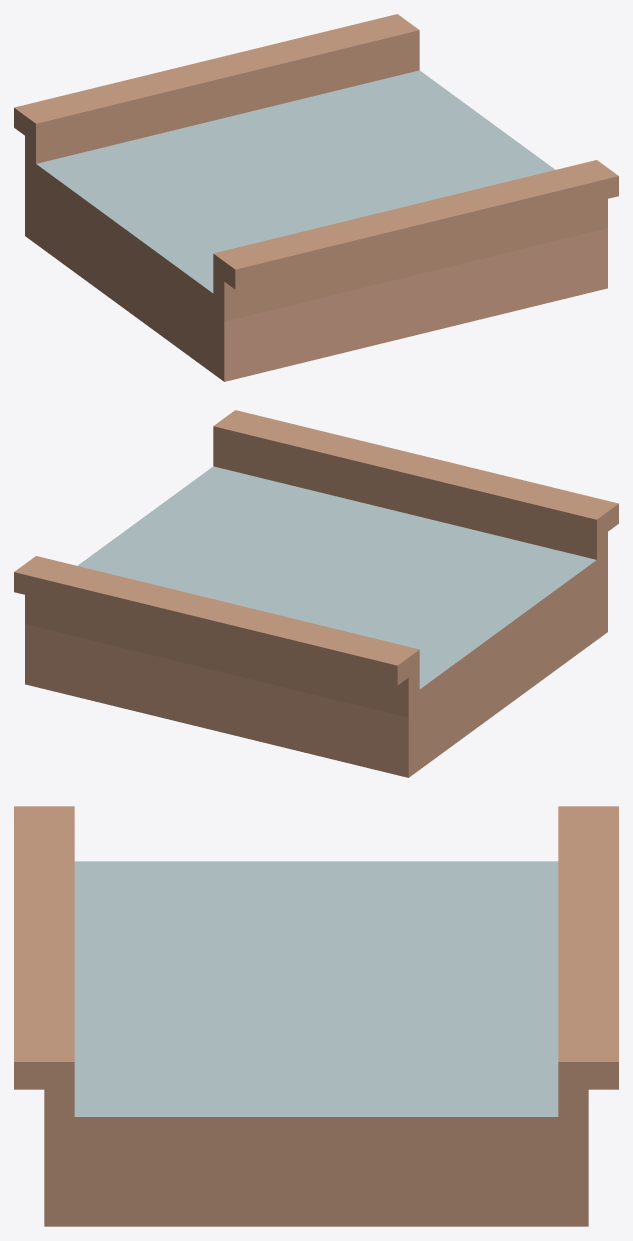
File: bridge_center_wood.glb
The picture shows the model from 3 angles, top to bottom: view 1: azimuth 30°, elevation 25°; view 2: azimuth 150°, elevation 25°; view 3: azimuth 270°, elevation 25°; orthographic projection. The views are drawn at different scales.
Parts seen in each view (by area): view 1: bridge_center_wood; view 2: bridge_center_wood; view 3: bridge_center_wood.
Boxes of the visible parts, x1,y1,x2,y2 form: bridge_center_wood: (14,14,618,381); bridge_center_wood: (14,410,618,777); bridge_center_wood: (14,806,618,1226).
Bounding box in the file's own units: 1 × 0.3 × 1.
